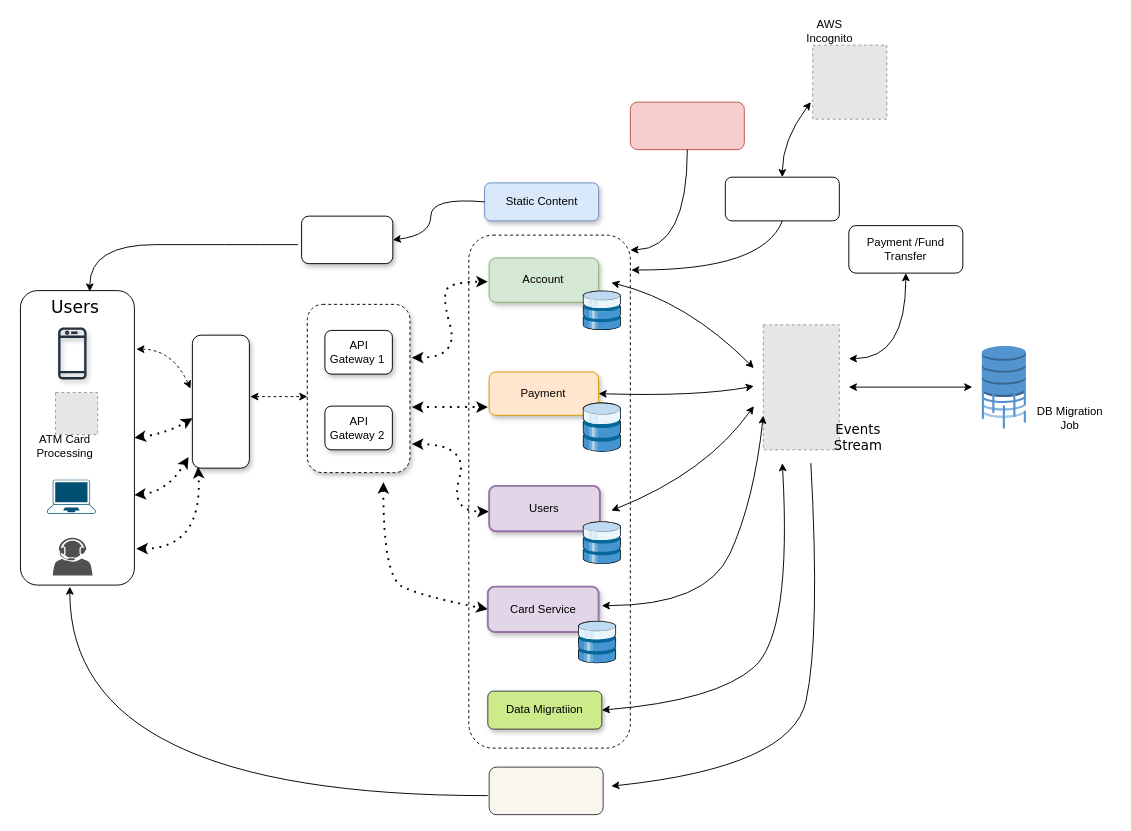
Image size: 1131x831. Some labels were removed from this diagram. Grey dashed boxes stand in for pictures. Here are the shapes that lost their labels. From the top down, the centre of each, then its label:
At pixel 686 125: "Fraud Check".
At pixel 781 198: "Authentication Service".
At pixel 348 240: "CDN".
At pixel 221 402: "Load Balancer".
At pixel 545 790: "Notification Service".
